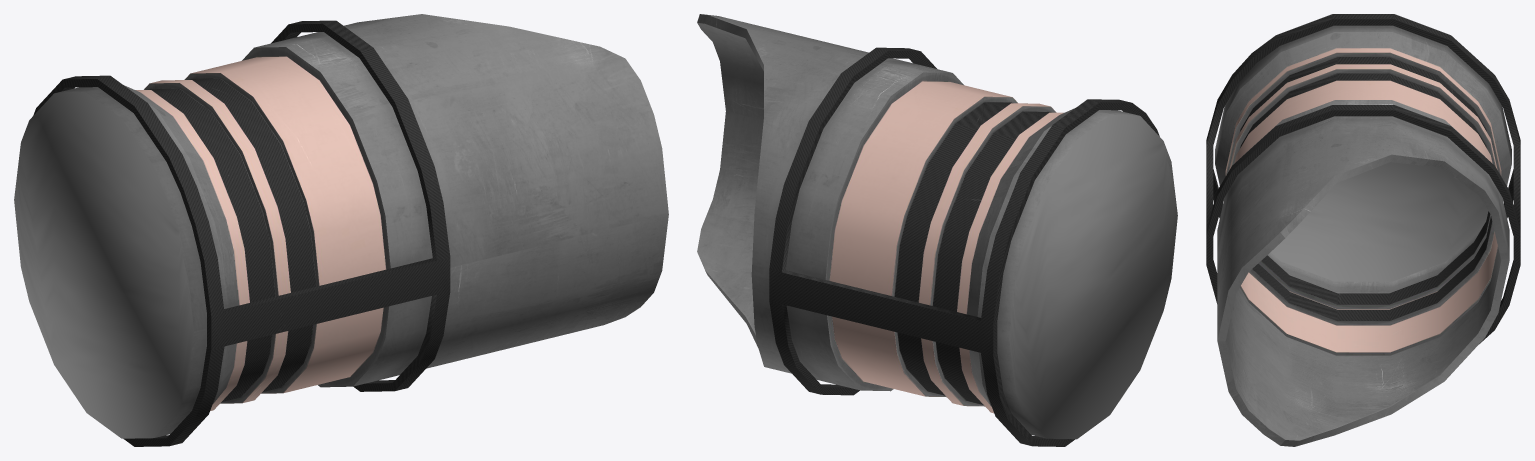
The model's file is guard_1_c_c.glb.
The picture shows the model from 3 angles, left to right: view 1: azimuth 30°, elevation 25°; view 2: azimuth 150°, elevation 25°; view 3: azimuth 270°, elevation 25°; orthographic projection. The views are drawn at different scales.
Visible parts, largest first — view 1: guard_1_c_c_lod0; view 2: guard_1_c_c_lod0; view 3: guard_1_c_c_lod0.
Boxes of the visible parts, x1=… form: guard_1_c_c_lod0: x1=14, y1=14, x2=668, y2=446; guard_1_c_c_lod0: x1=697, y1=14, x2=1177, y2=446; guard_1_c_c_lod0: x1=1206, y1=14, x2=1520, y2=446.
Size of what is drawn, in the model's own units: 0.0473 by 0.0324 by 0.0328.
1 material, 1 textured.
